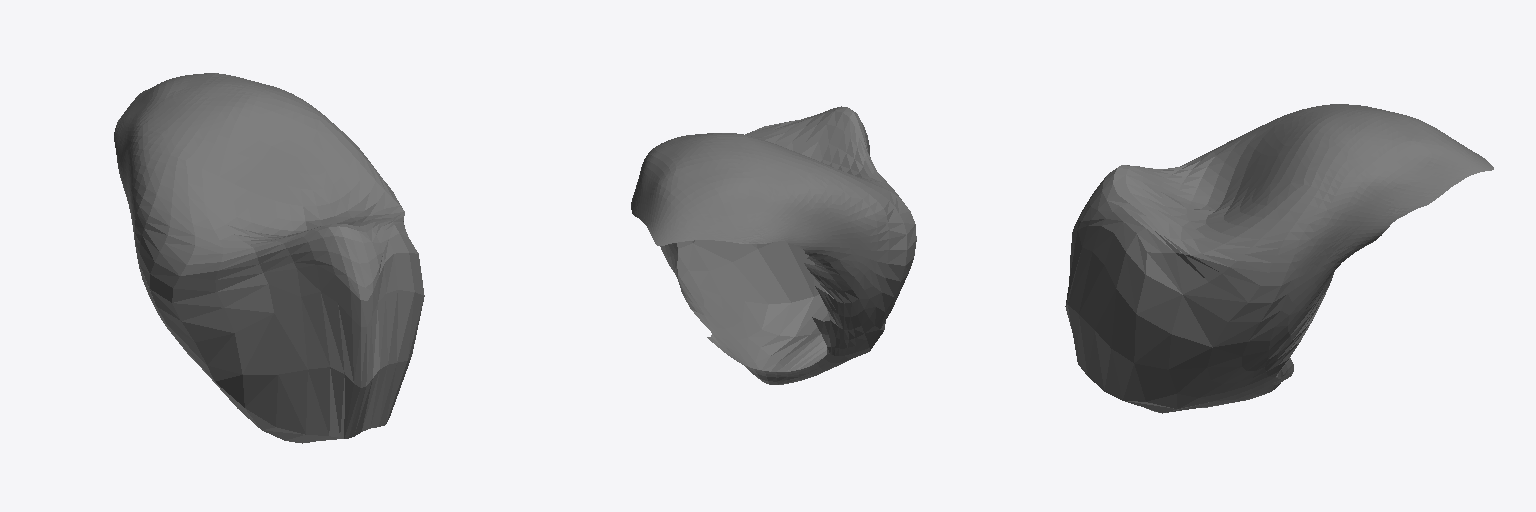
File: Hair.obj
The picture shows the model from 3 angles: view 1: azimuth 30°, elevation 25°; view 2: azimuth 150°, elevation 25°; view 3: azimuth 270°, elevation 25°; orthographic projection.
Visible parts, largest first — view 1: Badguy:Human_Default:Mesh Badguy:group1; view 2: Badguy:Human_Default:Mesh Badguy:group1; view 3: Badguy:Human_Default:Mesh Badguy:group1.
Part boxes in pixels (bbox=[...]): Badguy:Human_Default:Mesh Badguy:group1: bbox=[114, 73, 424, 443]; Badguy:Human_Default:Mesh Badguy:group1: bbox=[631, 106, 916, 384]; Badguy:Human_Default:Mesh Badguy:group1: bbox=[1065, 104, 1493, 413].
Size of the model in its own units: 21.86 by 23.3 by 33.13.